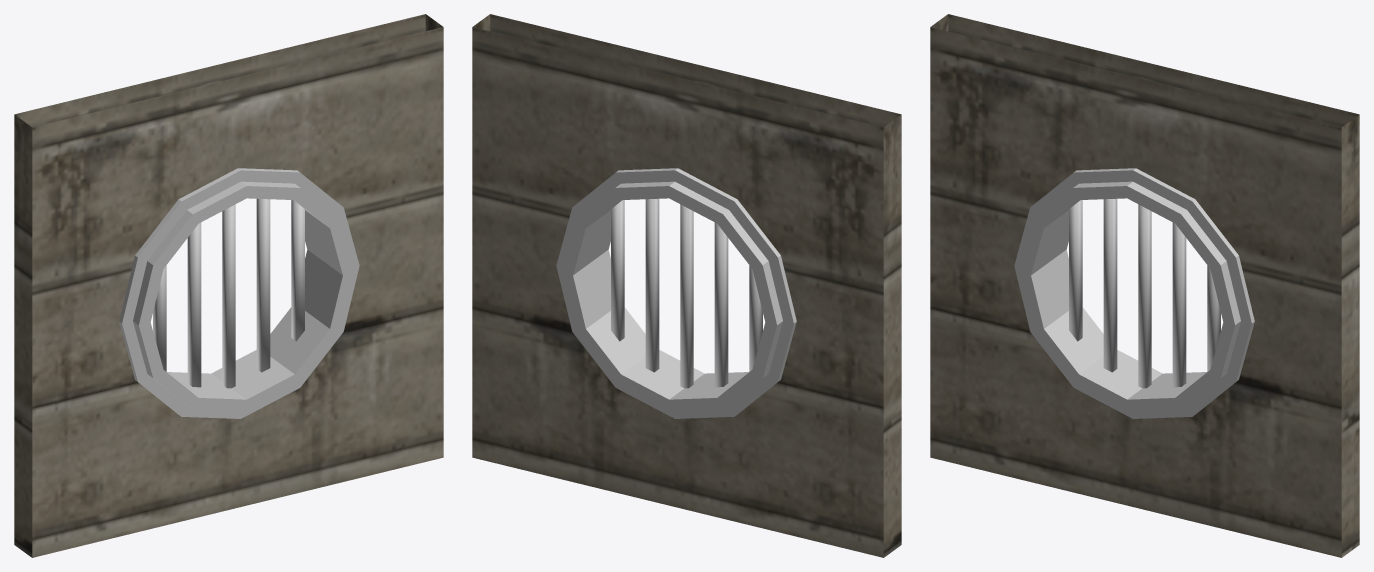
Rendered from MO_WALL_S_03.fbx.
3 renders of one model, left to right at view 1: azimuth 30°, elevation 25°; view 2: azimuth 150°, elevation 25°; view 3: azimuth 330°, elevation 25°, orthographic.
Parts seen in each view (by area): view 1: MO_WALL_S_03; view 2: MO_WALL_S_03; view 3: MO_WALL_S_03.
Boxes of the visible parts, left/top/right/bottom form: MO_WALL_S_03: left=14, top=14, right=443, bottom=557; MO_WALL_S_03: left=472, top=14, right=901, bottom=557; MO_WALL_S_03: left=930, top=14, right=1359, bottom=557.
Size of the model in its own units: 4 by 4 by 0.6.
